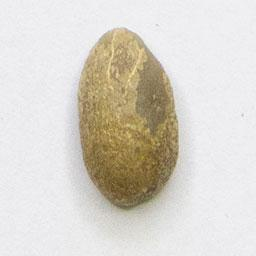longberry: (74, 22, 183, 212)
